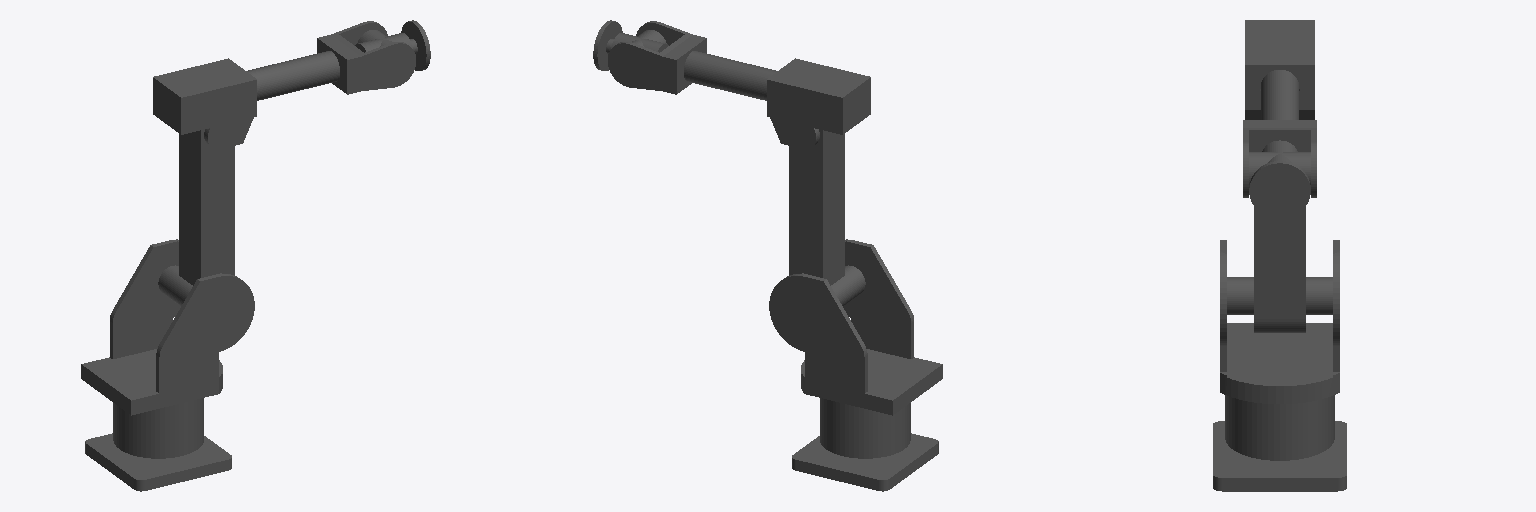
URDF robot description (mini_servo):
<?xml version="1.0" ?>
<!-- =================================================================================== -->
<!-- |    This document was autogenerated by xacro from mini_servo.urdf.xacro          | -->
<!-- |    EDITING THIS FILE BY HAND IS NOT RECOMMENDED                                 | -->
<!-- =================================================================================== -->
<robot name="mini_servo" xmlns:xacro="http://www.ros.org/wiki/xacro">
  <material name="Black">
    <color rgba="0.0 0.0 0.0 1.0"/>
  </material>
  <material name="Blue">
    <color rgba="0.0 0.0 0.8 1.0"/>
  </material>
  <material name="Green">
    <color rgba="0.0 0.8 0.0 1.0"/>
  </material>
  <material name="Grey">
    <color rgba="0.4 0.4 0.4 1.0"/>
  </material>
  <material name="Orange">
    <color rgba="1.0 0.423529411765 0.0392156862745 1.0"/>
  </material>
  <material name="Brown">
    <color rgba="0.870588235294 0.811764705882 0.764705882353 1.0"/>
  </material>
  <material name="Red">
    <color rgba="0.8 0.0 0.0 1.0"/>
  </material>
  <material name="White">
    <color rgba="1.0 1.0 1.0 1.0"/>
  </material>
  <!-- Fix to world, change if mounted to something -->
  <link name="world"/>
  <!--joint between {parent} and link_0-->
  <joint name="world_mini_servo_joint" type="fixed">
    <origin rpy="0 0 0" xyz="0 0 0"/>
    <parent link="world"/>
    <child link="mini_servo_link_0"/>
  </joint>
  <link name="mini_servo_link_0">
    <inertial>
      <origin rpy="0 0 0" xyz="0 0 0.00725"/>
      <mass value="0.050"/>
      <inertia ixx="0.001" ixy="0" ixz="0" iyy="0.001" iyz="0" izz="0.001"/>
    </inertial>
    <visual>
      <origin rpy="0 0 0" xyz="0 0 0"/>
      <geometry>
        <mesh filename="package://mini_servo_model/urdf/meshes/visual/link_0.stl" scale="0.001 0.001 0.001"/>
      </geometry>
      <material name="Grey"/>
    </visual>
    <collision>
      <origin rpy="0 0 0" xyz="0 0 0"/>
      <geometry>
        <mesh filename="package://mini_servo_model/urdf/meshes/collision/link_0.stl" scale="0.001 0.001 0.001"/>
      </geometry>
      <material name="Grey"/>
    </collision>
    <self_collision_checking>
      <origin rpy="0 0 0" xyz="0 0 0"/>
      <geometry>
        <capsule length="0.25" radius="0.15"/>
      </geometry>
    </self_collision_checking>
  </link>
  <!-- joint between link_0 and link_1 -->
  <joint name="mini_servo_joint_1" type="revolute">
    <parent link="mini_servo_link_0"/>
    <child link="mini_servo_link_1"/>
    <origin rpy="0 0 0" xyz="0 0 0.0145"/>
    <axis xyz="0 0 1"/>
    <limit effort="300" lower="-2.16420827247" upper="1.57079632679" velocity="10"/>
    <safety_controller k_position="100" k_velocity="2" soft_lower_limit="-2.14675497995" soft_upper_limit="1.55334303427"/>
    <dynamics damping="0.5"/>
  </joint>
  <link name="mini_servo_link_1">
    <inertial>
      <origin rpy="0 0 0" xyz="0 0.0175 0.045"/>
      <mass value="0.050"/>
      <inertia ixx="0.005" ixy="0" ixz="0" iyy="0.005" iyz="0" izz="0.005"/>
    </inertial>
    <visual>
      <origin rpy="0 0 3.14159265359" xyz="0 0 0"/>
      <geometry>
        <mesh filename="package://mini_servo_model/urdf/meshes/visual/link_1.stl" scale="0.001 0.001 0.001"/>
      </geometry>
      <material name="Grey"/>
    </visual>
    <collision>
      <origin rpy="0 0 3.14159265359" xyz="0 0 0"/>
      <geometry>
        <mesh filename="package://mini_servo_model/urdf/meshes/collision/link_1.stl" scale="0.001 0.001 0.001"/>
      </geometry>
      <material name="Grey"/>
    </collision>
  </link>
  <!-- joint between link_1 and link_2 -->
  <joint name="mini_servo_joint_2" type="revolute">
    <parent link="mini_servo_link_1"/>
    <child link="mini_servo_link_2"/>
    <origin rpy="-1.57079632679 3.14159265359 0" xyz="0.035 0 0.090"/>
    <axis xyz="0 0 1"/>
    <limit effort="300" lower="-1.3962634016" upper="1.09955742876" velocity="10"/>
    <safety_controller k_position="100" k_velocity="2" soft_lower_limit="-1.37881010908" soft_upper_limit="1.08210413624"/>
    <dynamics damping="0.5"/>
  </joint>
  <link name="mini_servo_link_2">
    <inertial>
      <origin rpy="0 0 0" xyz="0.0 0.060 0.0"/>
      <mass value="0.050"/>
      <inertia ixx="0.005" ixy="0" ixz="0" iyy="0.005" iyz="0" izz="0.005"/>
    </inertial>
    <visual>
      <origin rpy="1.57079632679 0 1.57079632679" xyz="0 0 0"/>
      <geometry>
        <mesh filename="package://mini_servo_model/urdf/meshes/visual/link_2.stl" scale="0.001 0.001 0.001"/>
      </geometry>
      <material name="Grey"/>
    </visual>
    <collision>
      <origin rpy="1.57079632679 0 1.57079632679" xyz="0 0 0"/>
      <geometry>
        <mesh filename="package://mini_servo_model/urdf/meshes/collision/link_2.stl" scale="0.001 0.001 0.001"/>
      </geometry>
      <material name="Grey"/>
    </collision>
  </link>
  <!-- joint between link_2 and link_3 -->
  <joint name="mini_servo_joint_3" type="revolute">
    <parent link="mini_servo_link_2"/>
    <child link="mini_servo_link_3"/>
    <origin rpy="0 0 0" xyz="0 0.120 0"/>
    <axis xyz="0 0 1"/>
    <limit effort="300" lower="-1.09955742876" upper="1.16937059884" velocity="10"/>
    <safety_controller k_position="100" k_velocity="2" soft_lower_limit="-1.08210413624" soft_upper_limit="1.15191730632"/>
    <dynamics damping="0.5"/>
  </joint>
  <link name="mini_servo_link_3">
    <inertial>
      <origin rpy="0 0 0" xyz="0.030 0.020 0.0"/>
      <mass value="0.050"/>
      <inertia ixx="0.005" ixy="0" ixz="0" iyy="0.005" iyz="0" izz="0.005"/>
    </inertial>
    <visual>
      <origin rpy="-1.57079632679 0 0" xyz="0 0 0"/>
      <geometry>
        <mesh filename="package://mini_servo_model/urdf/meshes/visual/link_3.stl" scale="0.001 0.001 0.001"/>
      </geometry>
      <material name="Grey"/>
    </visual>
    <collision>
      <origin rpy="-1.57079632679 0 0" xyz="0 0 0"/>
      <geometry>
        <mesh filename="package://mini_servo_model/urdf/meshes/collision/link_3.stl" scale="0.001 0.001 0.001"/>
      </geometry>
      <material name="Grey"/>
    </collision>
  </link>
  <!-- joint between link_3 and link_4 -->
  <joint name="mini_servo_joint_4" type="revolute">
    <parent link="mini_servo_link_3"/>
    <child link="mini_servo_link_4"/>
    <origin rpy="0 -1.57079632679 0" xyz="-0.0175 0.01875 0.0"/>
    <axis xyz="0 0 1"/>
    <limit effort="300" lower="-2.00712863979" upper="1.74532925199" velocity="10"/>
    <safety_controller k_position="100" k_velocity="2" soft_lower_limit="-1.98967534727" soft_upper_limit="1.72787595947"/>
    <dynamics damping="0.5"/>
  </joint>
  <link name="mini_servo_link_4">
    <inertial>
      <origin rpy="0 0 0" xyz="0 0.067 0.034"/>
      <mass value="2.7"/>
      <inertia ixx="0.03" ixy="0" ixz="0" iyy="0.01" iyz="0" izz="0.029"/>
    </inertial>
    <visual>
      <origin rpy="-1.57079632679 0 0" xyz="0 0 0"/>
      <geometry>
        <mesh filename="package://mini_servo_model/urdf/meshes/visual/link_4.stl" scale="0.001 0.001 0.001"/>
      </geometry>
      <material name="Grey"/>
    </visual>
    <collision>
      <origin rpy="-1.57079632679 0 0" xyz="0 0 0"/>
      <geometry>
        <mesh filename="package://mini_servo_model/urdf/meshes/collision/link_4.stl" scale="0.001 0.001 0.001"/>
      </geometry>
      <material name="Grey"/>
    </collision>
  </link>
  <!-- joint between link_4 and link_5 -->
  <joint name="mini_servo_joint_5" type="revolute">
    <parent link="mini_servo_link_4"/>
    <child link="mini_servo_link_5"/>
    <origin rpy="0 -1.57079632679 3.14159265359" xyz="0 0 0.110"/>
    <axis xyz="0 0 1"/>
    <limit effort="300" lower="-1.15191730632" upper="1.95476876223" velocity="10"/>
    <safety_controller k_position="100" k_velocity="2" soft_lower_limit="-1.1344640138" soft_upper_limit="1.93731546971"/>
    <dynamics damping="0.5"/>
  </joint>
  <link name="mini_servo_link_5">
    <inertial>
      <origin rpy="0 0 0" xyz="0.0 0.0 0.055"/>
      <mass value="0.025"/>
      <inertia ixx="0.001" ixy="0" ixz="0" iyy="0.001" iyz="0" izz="0.001"/>
    </inertial>
    <visual>
      <origin rpy="-1.57079632679 0 0" xyz="0 0 0"/>
      <geometry>
        <mesh filename="package://mini_servo_model/urdf/meshes/visual/link_5.stl" scale="0.001 0.001 0.001"/>
      </geometry>
      <material name="Grey"/>
    </visual>
    <collision>
      <origin rpy="-1.57079632679 0 0" xyz="0 0 0"/>
      <geometry>
        <mesh filename="package://mini_servo_model/urdf/meshes/collision/link_5.stl" scale="0.001 0.001 0.001"/>
      </geometry>
      <material name="Grey"/>
    </collision>
  </link>
  <!-- joint between link_5 and link_6 -->
  <joint name="mini_servo_joint_6" type="revolute">
    <parent link="mini_servo_link_5"/>
    <child link="mini_servo_link_6"/>
    <origin rpy="0 1.57079632679 0" xyz="0.025 0 0"/>
    <axis xyz="0 0 1"/>
    <limit effort="300" lower="-1.36135681656" upper="2.14675497995" velocity="10"/>
    <safety_controller k_position="100" k_velocity="2" soft_lower_limit="-1.34390352404" soft_upper_limit="2.12930168743"/>
    <dynamics damping="0.5"/>
  </joint>
  <link name="mini_servo_link_6">
    <inertial>
      <origin rpy="0 0 0" xyz="0.0125 0.0 0.0"/>
      <mass value="0.010"/>
      <inertia ixx="0.001" ixy="0" ixz="0" iyy="0.001" iyz="0" izz="0.001"/>
    </inertial>
    <visual>
      <origin rpy="1.57079632679 0 0" xyz="0 0 0"/>
      <geometry>
        <mesh filename="package://mini_servo_model/urdf/meshes/visual/link_6.stl" scale="0.001 0.001 0.001"/>
      </geometry>
      <material name="Grey"/>
    </visual>
    <collision>
      <origin rpy="1.57079632679 0 0" xyz="0 0 0"/>
      <geometry>
        <mesh filename="package://mini_servo_model/urdf/meshes/collision/link_6.stl" scale="0.001 0.001 0.001"/>
      </geometry>
      <material name="Grey"/>
    </collision>
  </link>
  <joint name="mini_servo_joint_ee" type="fixed">
    <parent link="mini_servo_link_6"/>
    <child link="mini_servo_link_ee"/>
    <origin rpy="0 0 0" xyz="0 0 0.010"/>
  </joint>
  <link name="mini_servo_link_ee">
    </link>
  <!-- Load Gazebo lib and set the robot namespace -->
  <gazebo>
    <plugin filename="libgazebo_ros_control.so" name="gazebo_ros_control">
      <robotNamespace>/mini_servo</robotNamespace>
    </plugin>
  </gazebo>
  <!-- Link0 -->
  <gazebo reference="mini_servo_link_0">
    <material>Gazebo/Grey</material>
    <mu1>0.2</mu1>
    <mu2>0.2</mu2>
  </gazebo>
  <!-- Link1 -->
  <gazebo reference="mini_servo_link_1">
    <material>Gazebo/Orange</material>
    <mu1>0.2</mu1>
    <mu2>0.2</mu2>
  </gazebo>
  <!-- Link2 -->
  <gazebo reference="mini_servo_link_2">
    <material>Gazebo/Orange</material>
    <mu1>0.2</mu1>
    <mu2>0.2</mu2>
  </gazebo>
  <!-- Link3 -->
  <gazebo reference="mini_servo_link_3">
    <material>Gazebo/Orange</material>
    <mu1>0.2</mu1>
    <mu2>0.2</mu2>
  </gazebo>
  <!-- Link4 -->
  <gazebo reference="mini_servo_link_4">
    <material>Gazebo/Orange</material>
    <mu1>0.2</mu1>
    <mu2>0.2</mu2>
  </gazebo>
  <!-- Link5 -->
  <gazebo reference="mini_servo_link_5">
    <material>Gazebo/Orange</material>
    <mu1>0.2</mu1>
    <mu2>0.2</mu2>
  </gazebo>
  <!-- Link6 -->
  <gazebo reference="mini_servo_link_6">
    <material>Gazebo/Orange</material>
    <mu1>0.2</mu1>
    <mu2>0.2</mu2>
  </gazebo>
  <!-- Link7 -->
  <gazebo reference="mini_servo_link_7">
    <material>Gazebo/Grey</material>
    <mu1>0.2</mu1>
    <mu2>0.2</mu2>
  </gazebo>
  <transmission name="mini_servo_tran_1">
    <robotNamespace>/mini_servo</robotNamespace>
    <type>transmission_interface/SimpleTransmission</type>
    <joint name="mini_servo_joint_1">
      <hardwareInterface>PositionJointInterface</hardwareInterface>
    </joint>
    <actuator name="mini_servo_motor_1">
      <hardwareInterface>PositionJointInterface</hardwareInterface>
      <mechanicalReduction>1</mechanicalReduction>
    </actuator>
  </transmission>
  <transmission name="mini_servo_tran_2">
    <robotNamespace>/mini_servo</robotNamespace>
    <type>transmission_interface/SimpleTransmission</type>
    <joint name="mini_servo_joint_2">
      <hardwareInterface>PositionJointInterface</hardwareInterface>
    </joint>
    <actuator name="mini_servo_motor_2">
      <hardwareInterface>PositionJointInterface</hardwareInterface>
      <mechanicalReduction>1</mechanicalReduction>
    </actuator>
  </transmission>
  <transmission name="mini_servo_tran_3">
    <robotNamespace>/mini_servo</robotNamespace>
    <type>transmission_interface/SimpleTransmission</type>
    <joint name="mini_servo_joint_3">
      <hardwareInterface>PositionJointInterface</hardwareInterface>
    </joint>
    <actuator name="mini_servo_motor_3">
      <hardwareInterface>PositionJointInterface</hardwareInterface>
      <mechanicalReduction>1</mechanicalReduction>
    </actuator>
  </transmission>
  <transmission name="mini_servo_tran_4">
    <robotNamespace>/mini_servo</robotNamespace>
    <type>transmission_interface/SimpleTransmission</type>
    <joint name="mini_servo_joint_4">
      <hardwareInterface>PositionJointInterface</hardwareInterface>
    </joint>
    <actuator name="mini_servo_motor_4">
      <hardwareInterface>PositionJointInterface</hardwareInterface>
      <mechanicalReduction>1</mechanicalReduction>
    </actuator>
  </transmission>
  <transmission name="mini_servo_tran_5">
    <robotNamespace>/mini_servo</robotNamespace>
    <type>transmission_interface/SimpleTransmission</type>
    <joint name="mini_servo_joint_5">
      <hardwareInterface>PositionJointInterface</hardwareInterface>
    </joint>
    <actuator name="mini_servo_motor_5">
      <hardwareInterface>PositionJointInterface</hardwareInterface>
      <mechanicalReduction>1</mechanicalReduction>
    </actuator>
  </transmission>
  <transmission name="mini_servo_tran_6">
    <robotNamespace>/mini_servo</robotNamespace>
    <type>transmission_interface/SimpleTransmission</type>
    <joint name="mini_servo_joint_6">
      <hardwareInterface>PositionJointInterface</hardwareInterface>
    </joint>
    <actuator name="mini_servo_motor_6">
      <hardwareInterface>PositionJointInterface</hardwareInterface>
      <mechanicalReduction>1</mechanicalReduction>
    </actuator>
  </transmission>
</robot>

--- Render facts (derived) ---
3 views of the same robot in one strip: view 1: azimuth 30°, elevation 25°; view 2: azimuth 150°, elevation 25°; view 3: azimuth 270°, elevation 25° (orthographic).
Robot: mini_servo — 9 links, 8 joints (6 revolute, 2 fixed); root link world; default pose: every joint at zero.
Visible links, largest first — view 1: mini_servo_link_1, mini_servo_link_2, mini_servo_link_3, mini_servo_link_4, mini_servo_link_0, mini_servo_link_6, mini_servo_link_5; view 2: mini_servo_link_1, mini_servo_link_2, mini_servo_link_3, mini_servo_link_4, mini_servo_link_0, mini_servo_link_6, mini_servo_link_5; view 3: mini_servo_link_1, mini_servo_link_2, mini_servo_link_0, mini_servo_link_3, mini_servo_link_4, mini_servo_link_6, mini_servo_link_5.
Link boxes in pixels (bbox=[...]): mini_servo_link_1: bbox=[81, 239, 254, 458]; mini_servo_link_2: bbox=[179, 130, 234, 285]; mini_servo_link_3: bbox=[153, 58, 256, 148]; mini_servo_link_4: bbox=[247, 21, 415, 100]; mini_servo_link_0: bbox=[85, 433, 231, 491]; mini_servo_link_6: bbox=[401, 20, 430, 70]; mini_servo_link_5: bbox=[355, 30, 412, 52]; mini_servo_link_1: bbox=[769, 239, 942, 458]; mini_servo_link_2: bbox=[789, 130, 844, 285]; mini_servo_link_3: bbox=[767, 58, 870, 148]; mini_servo_link_4: bbox=[608, 21, 776, 100]; mini_servo_link_0: bbox=[792, 433, 938, 491]; mini_servo_link_6: bbox=[593, 20, 622, 70]; mini_servo_link_5: bbox=[611, 30, 668, 52]; mini_servo_link_1: bbox=[1220, 240, 1339, 460]; mini_servo_link_2: bbox=[1254, 207, 1305, 332]; mini_servo_link_0: bbox=[1213, 421, 1346, 491]; mini_servo_link_3: bbox=[1245, 20, 1314, 119]; mini_servo_link_4: bbox=[1243, 70, 1316, 197]; mini_servo_link_6: bbox=[1249, 161, 1310, 218]; mini_servo_link_5: bbox=[1249, 140, 1310, 184].
Bounding box of the posed robot: 0.2255 × 0.07 × 0.2592 m (x, y, z).
7 mesh visuals loaded from 7 distinct referenced files (7 binary STL).